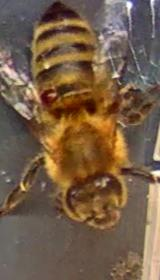varroa_mite: (30, 81, 60, 110)
